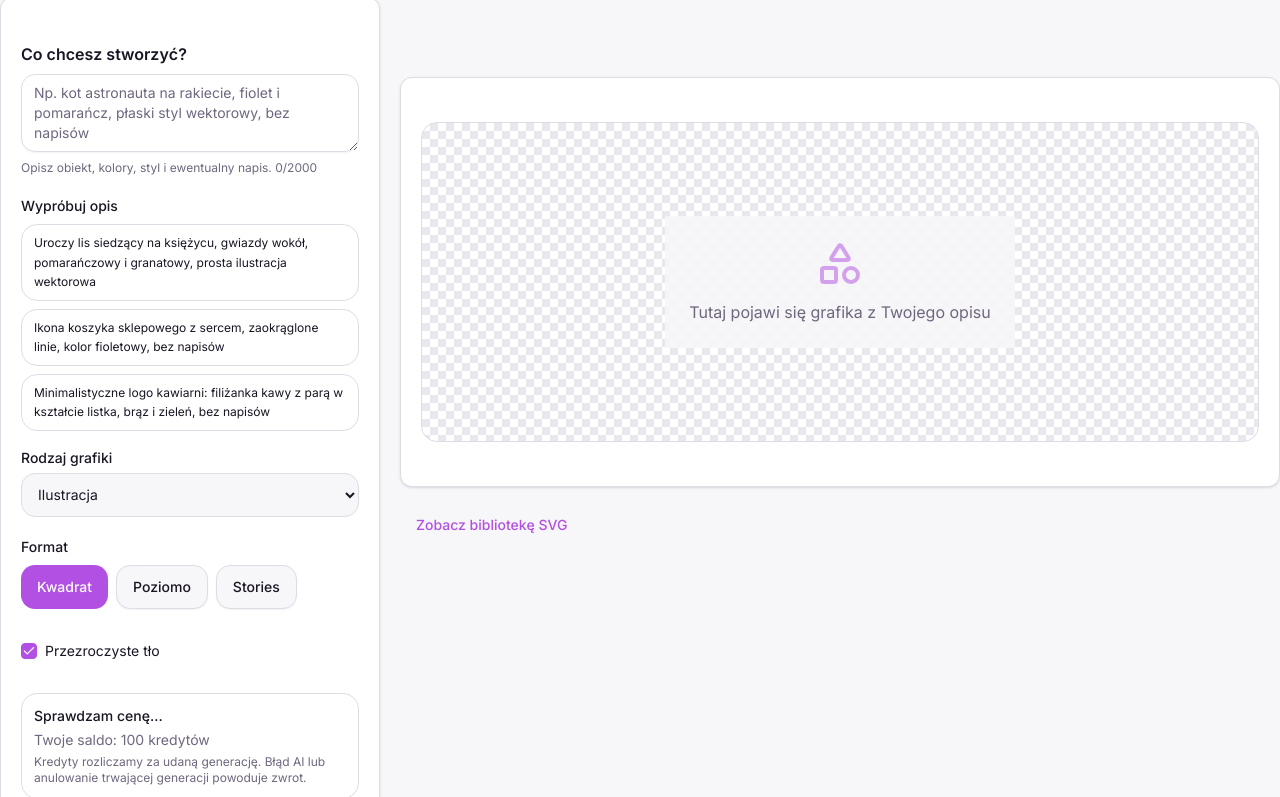
it: cancels the request and discards a stale response
This screenshot has width=1280, height=797.
Replace the text in the text box labelled "Co chcesz stworzyć?" with "Lis na księżycu" at point(190, 113), box [21,74,359,152]
(page scrolled)
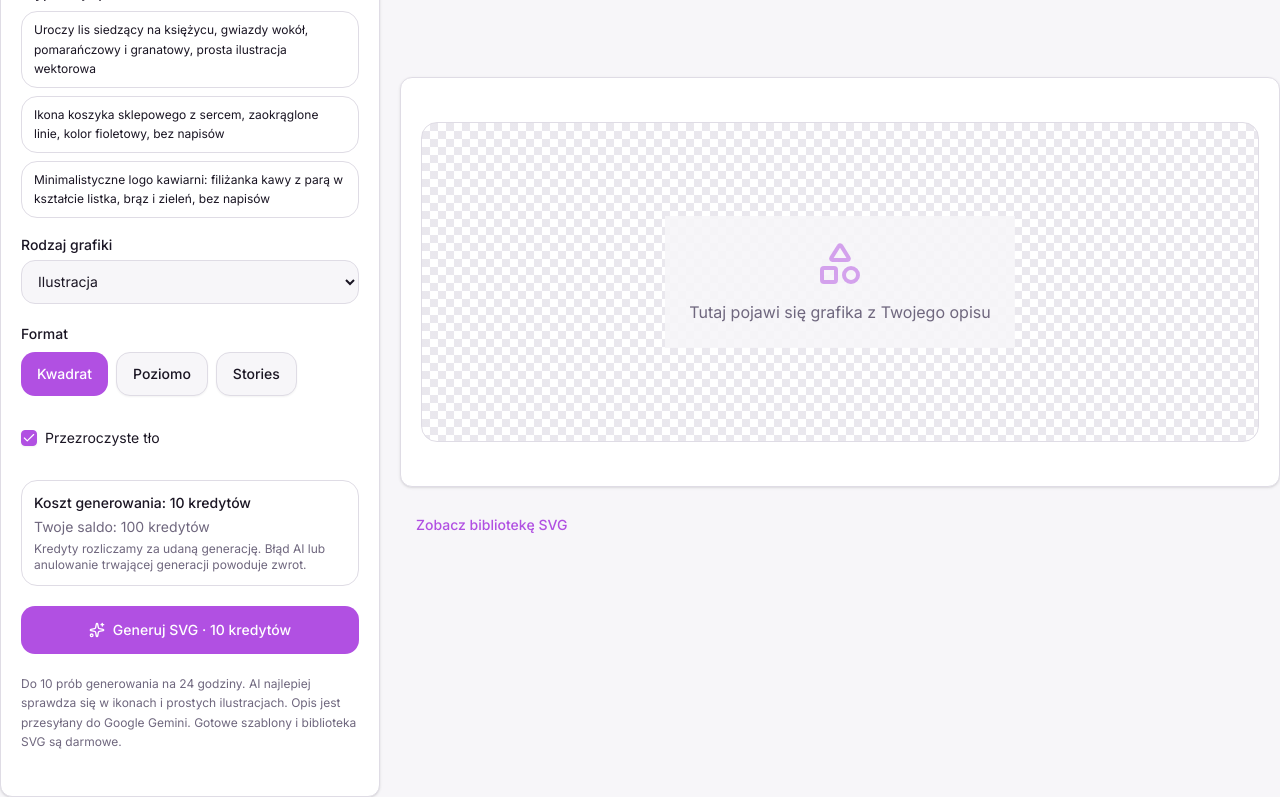
Result: the button "Generuj SVG · 10 kredytów" is enabled
Click the button "Generuj SVG · 10 kredytów" at point(190, 630), box [21,606,359,654]
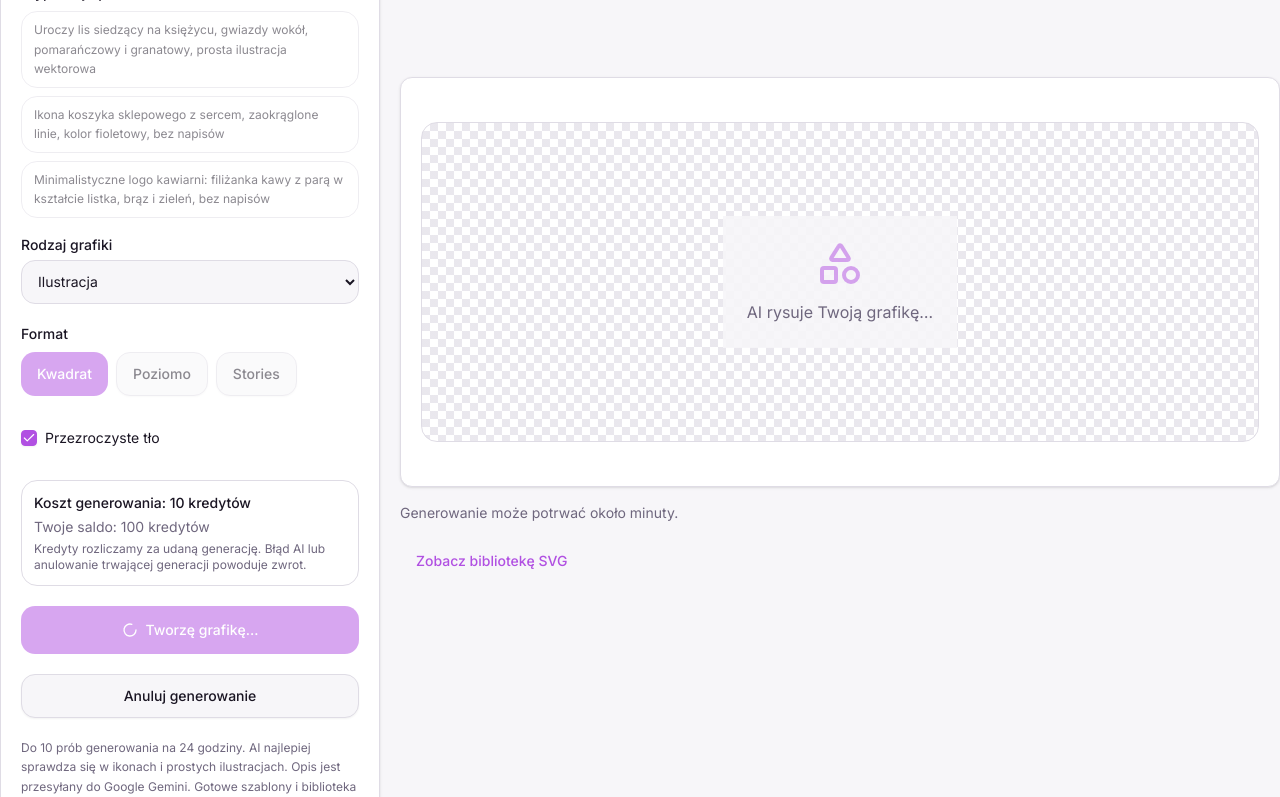
Result: the button "Tworzę grafikę…" is disabled at [21,606,359,654]
Click the button "Anuluj generowanie" at point(190, 696), box [21,674,359,718]
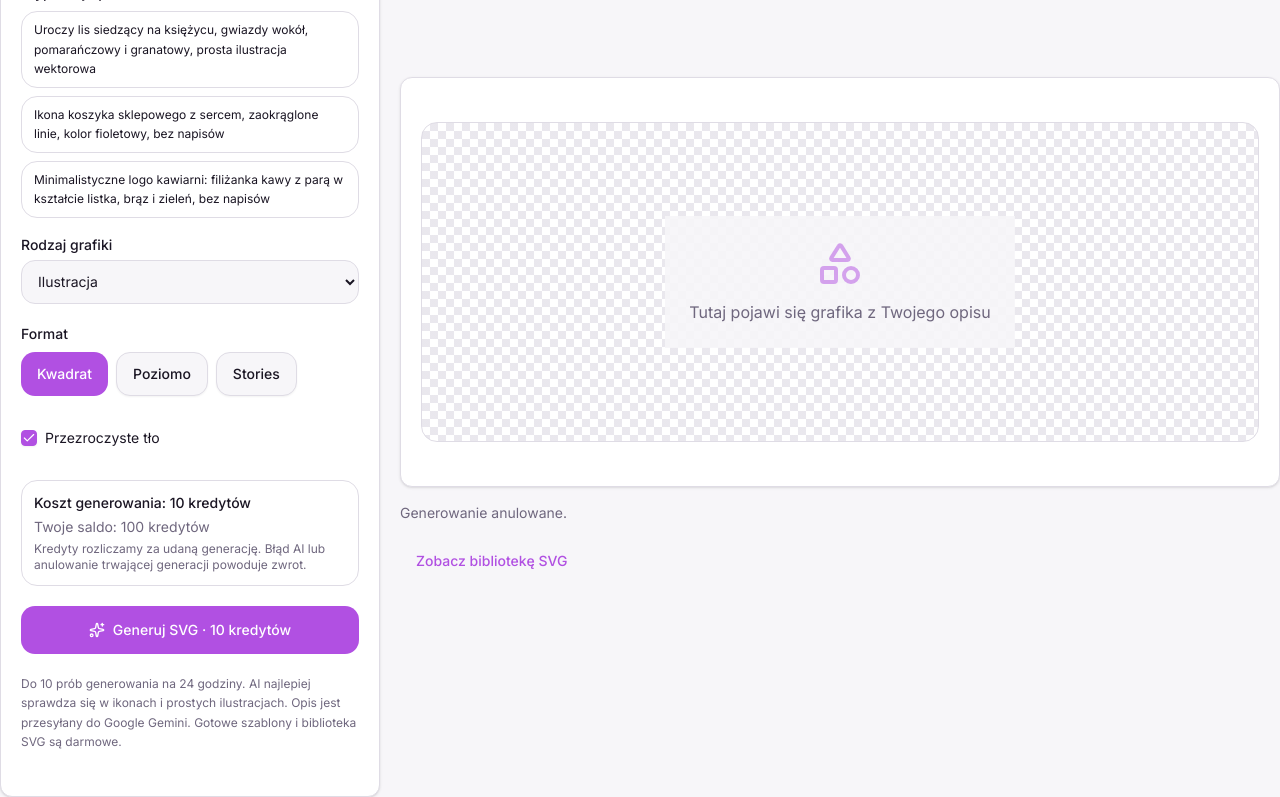
Result: the button "Generuj SVG · 10 kredytów" is enabled at [21,606,359,654]
